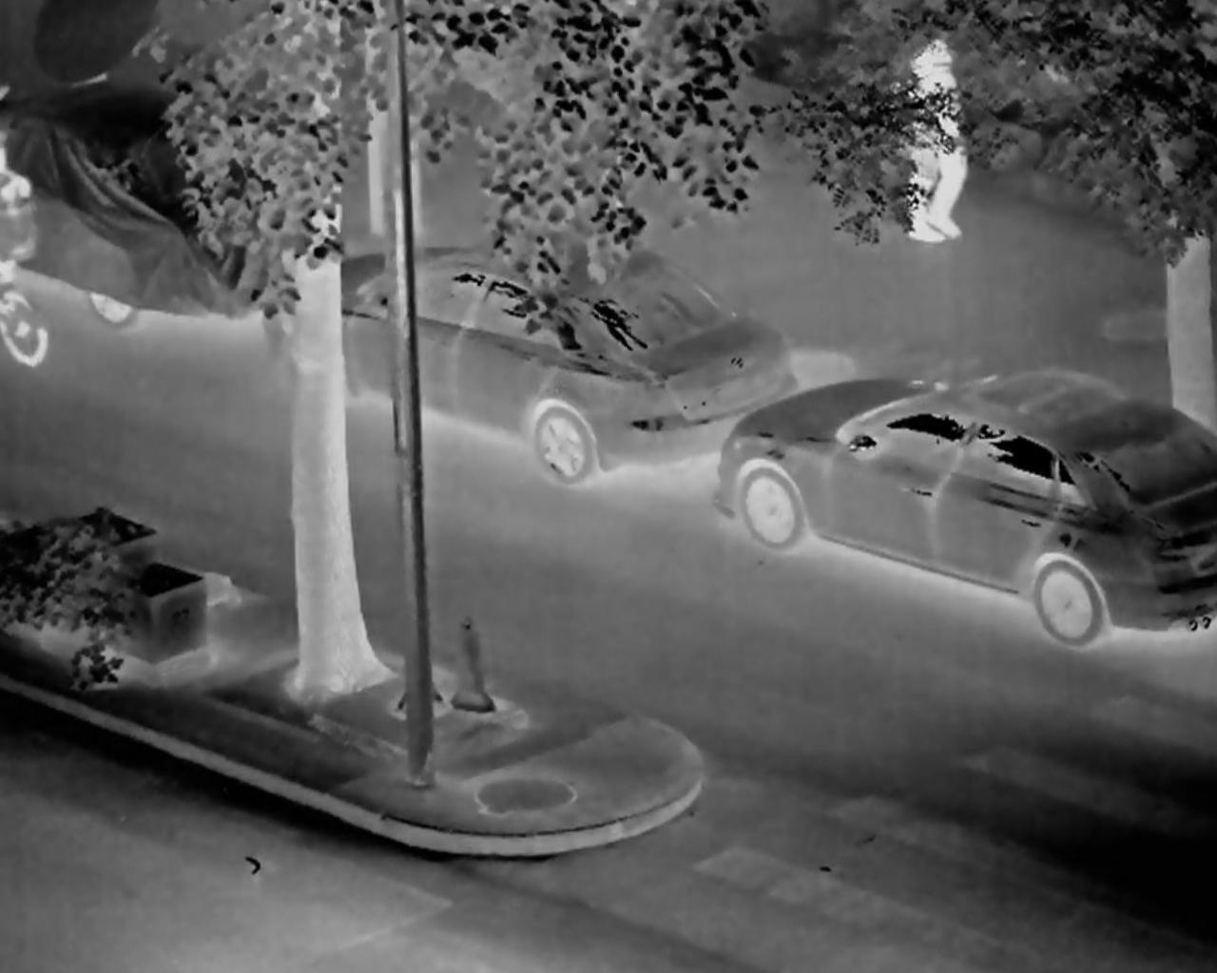person: (875, 29, 969, 251)
